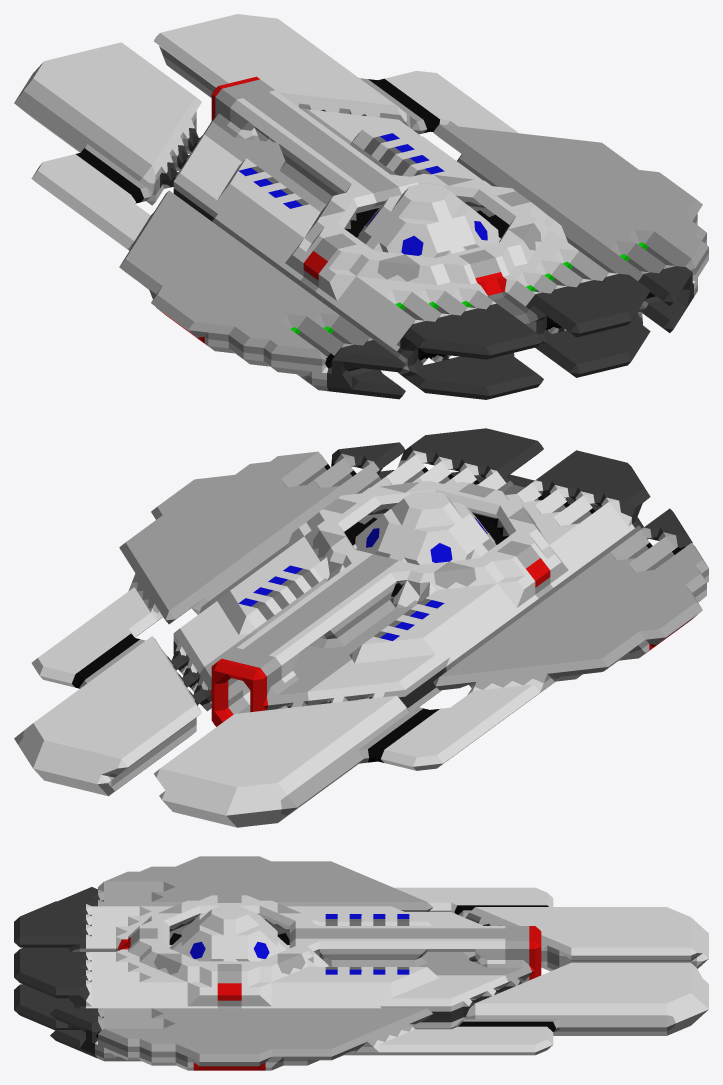
The model's file is ship_gavinc_cruiser_heavy.fbx.
The picture shows the model from 3 angles, top to bottom: view 1: azimuth 30°, elevation 25°; view 2: azimuth 150°, elevation 25°; view 3: azimuth 270°, elevation 25°; orthographic projection. The views are drawn at different scales.
Parts seen in each view (by area): view 1: ship_gavinc_cruiser_heavy.mc; view 2: ship_gavinc_cruiser_heavy.mc; view 3: ship_gavinc_cruiser_heavy.mc.
Boxes of the visible parts, box(x1,y1,x2,y2) form: ship_gavinc_cruiser_heavy.mc: box(14, 14, 708, 399); ship_gavinc_cruiser_heavy.mc: box(14, 428, 708, 827); ship_gavinc_cruiser_heavy.mc: box(14, 856, 708, 1070).
Size of the model in its own units: 4000 by 1000 by 5800.
